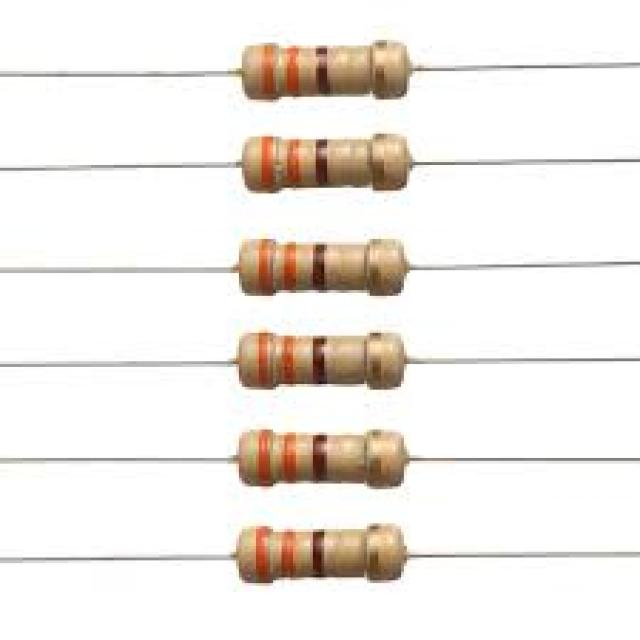capacitor: (210, 396, 452, 506), (193, 213, 444, 310), (233, 23, 430, 128), (193, 128, 430, 213), (211, 310, 444, 395), (222, 512, 424, 594)
